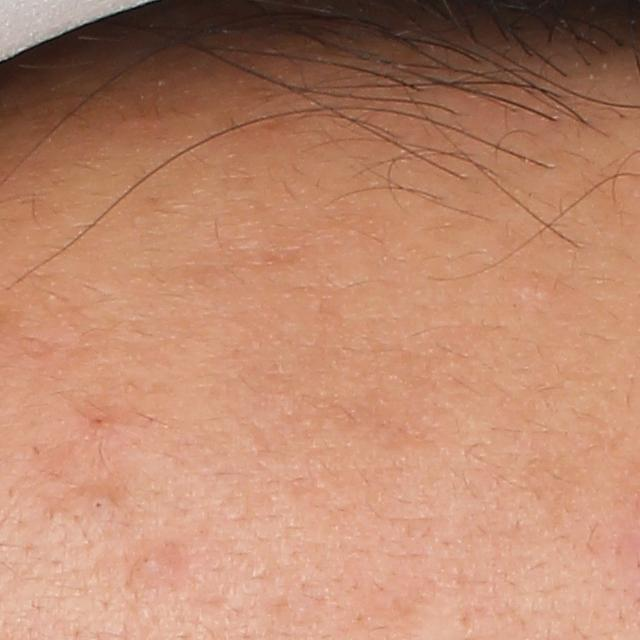comedo: (136, 550, 164, 573)
